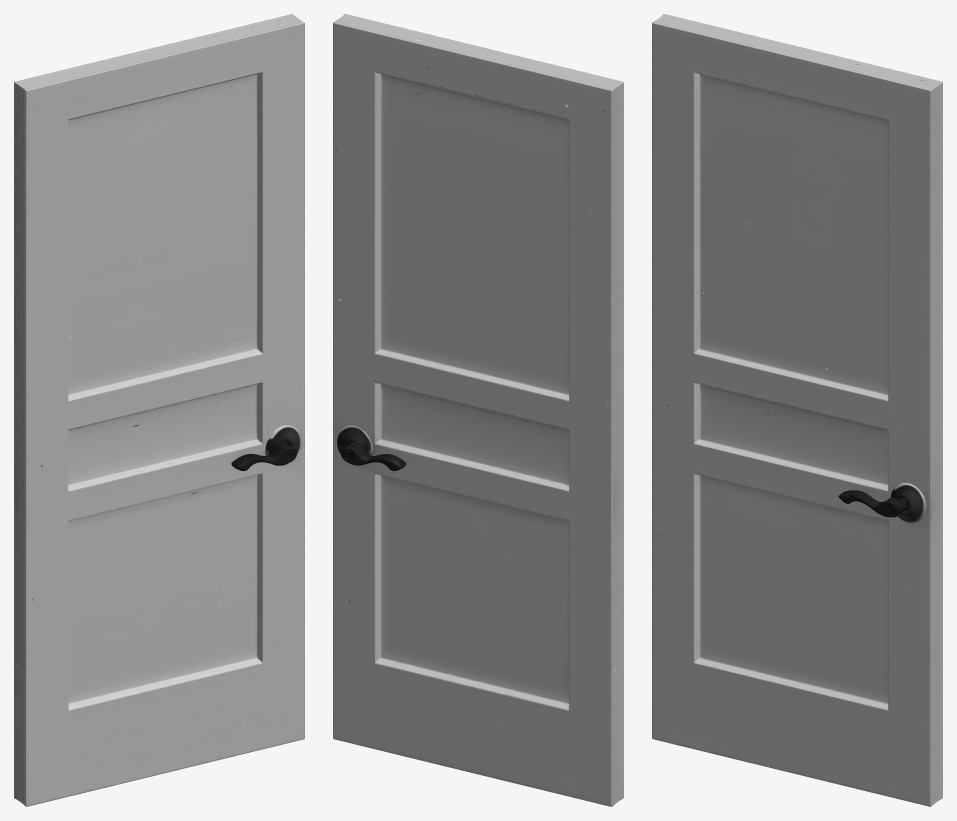
3 renders of one model, left to right at view 1: azimuth 30°, elevation 25°; view 2: azimuth 150°, elevation 25°; view 3: azimuth 330°, elevation 25°, orthographic.
Visible parts, largest first — view 1: material; view 2: material; view 3: material.
Boxes of the visible parts, left/top/right/bottom form: material: left=14, top=14, right=304, bottom=806; material: left=333, top=14, right=623, bottom=806; material: left=652, top=14, right=942, bottom=806.
Bounding box in the file's own units: 0.4525 × 1.11 × 0.1054.
1 material, 1 textured.
